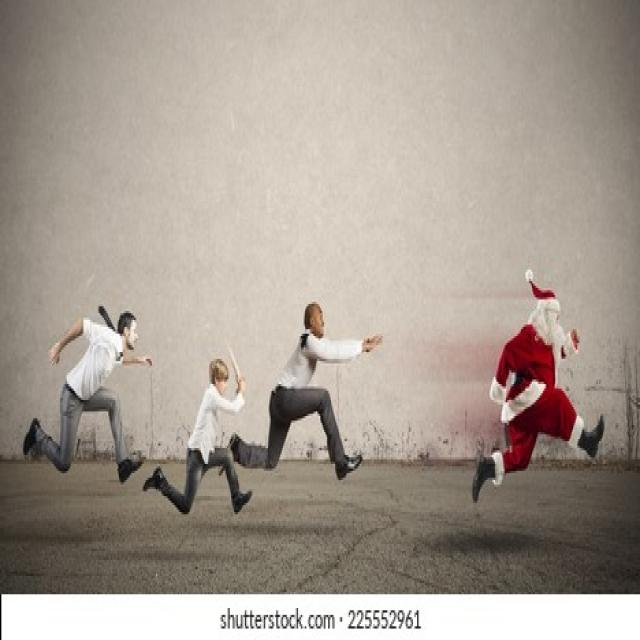running: (469, 264, 606, 505), (247, 299, 385, 480), (19, 308, 153, 489), (143, 352, 254, 514)
